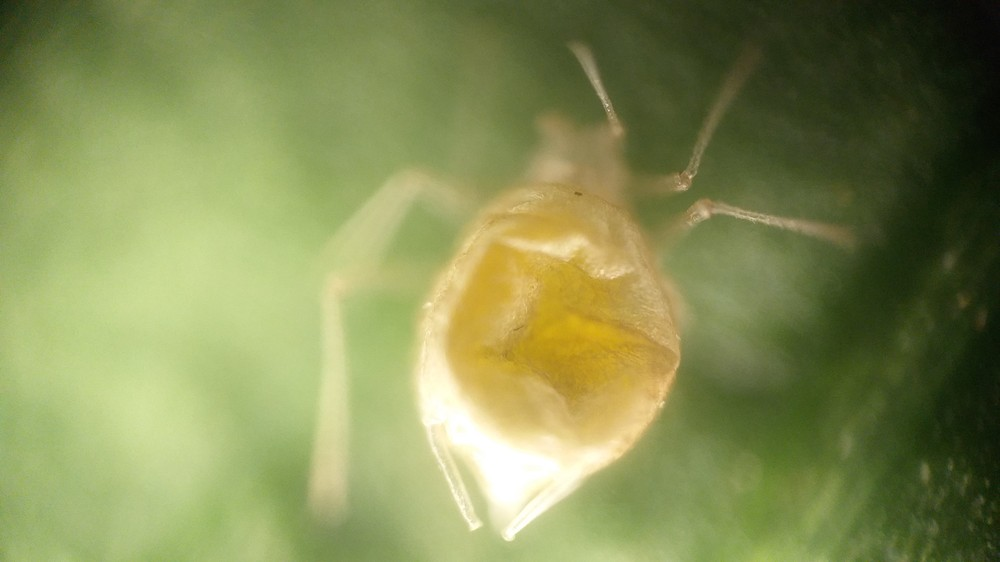Pulgon: (285, 23, 865, 541)
